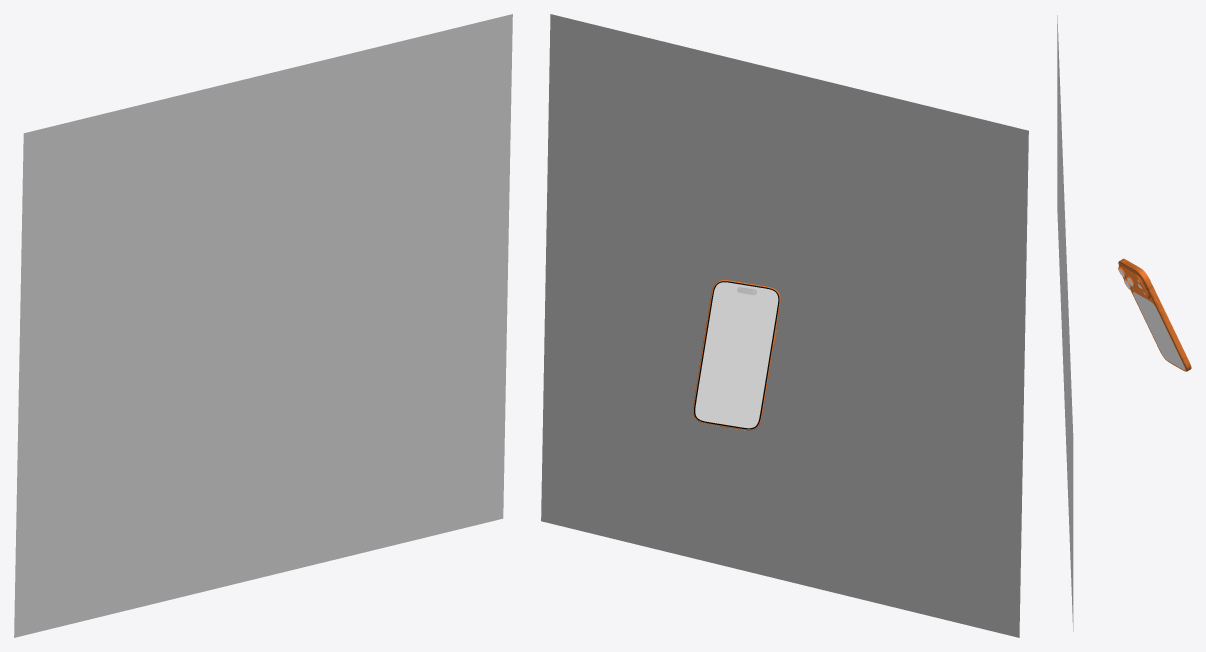
Rendered from Iphone17 model Orange.fbx.
The picture shows the model from 3 angles, left to right: view 1: azimuth 30°, elevation 25°; view 2: azimuth 150°, elevation 25°; view 3: azimuth 270°, elevation 25°; orthographic projection. The views are drawn at different scales.
Visible parts, largest first — view 1: Plane; view 2: Plane, Touch Panel, Screen, Cube; view 3: Plane, Cube, Cube.005, Cube.002.
Boxes of the visible parts, x1=… form: Plane: x1=14, y1=14, x2=512, y2=637; Plane: x1=541, y1=14, x2=1028, y2=637; Touch Panel: x1=694, y1=281, x2=779, y2=429; Screen: x1=696, y1=283, x2=777, y2=427; Cube: x1=693, y1=280, x2=780, y2=430; Plane: x1=1057, y1=15, x2=1073, y2=631; Cube: x1=1118, y1=258, x2=1191, y2=371; Cube.005: x1=1133, y1=292, x2=1185, y2=370; Cube.002: x1=1119, y1=266, x2=1148, y2=298.
Size of the model in its own units: 448 by 448 by 128.
